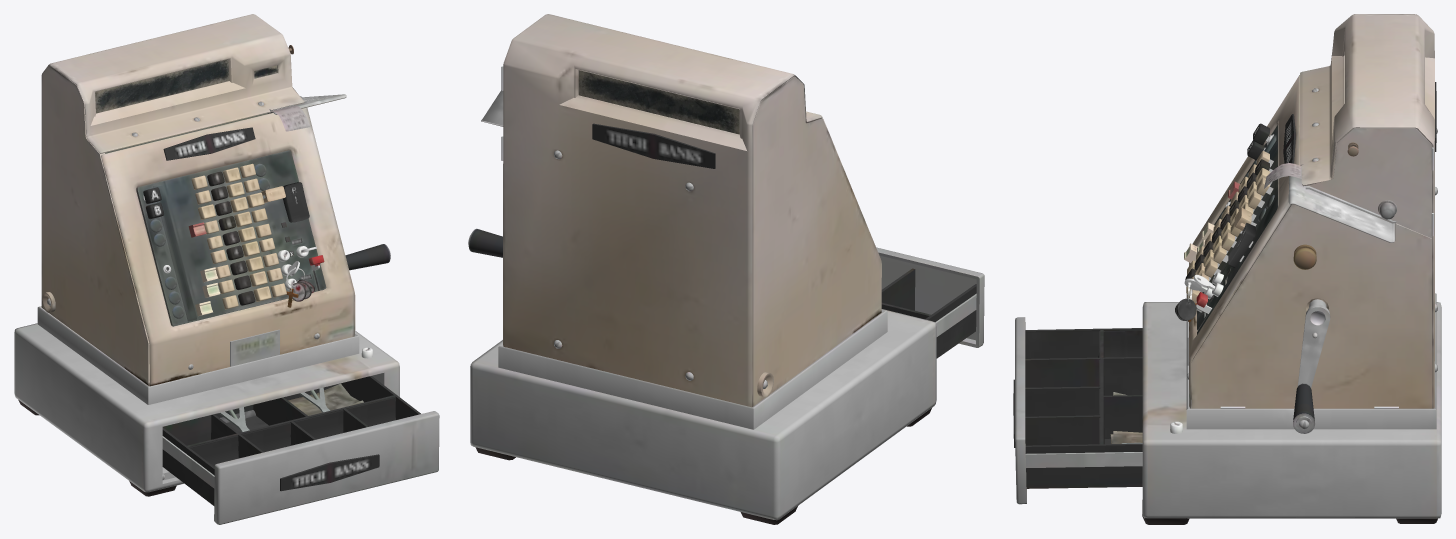
The model's file is CashRegister_01.glb.
3 renders of one model, left to right at view 1: azimuth 30°, elevation 25°; view 2: azimuth 150°, elevation 25°; view 3: azimuth 270°, elevation 25°, orthographic. The views are drawn at different scales.
Parts seen in each view (by area): view 1: CashRegister_01_body, CashRegister_011_drawer; view 2: CashRegister_01_body, CashRegister_011_drawer; view 3: CashRegister_01_body, CashRegister_011_drawer.
Boxes of the visible parts, x1,y1,x2,y2 form: CashRegister_01_body: (14, 14, 399, 496); CashRegister_011_drawer: (162, 376, 439, 524); CashRegister_01_body: (468, 14, 936, 524); CashRegister_011_drawer: (876, 247, 984, 358); CashRegister_01_body: (1142, 14, 1441, 524); CashRegister_011_drawer: (1013, 317, 1142, 504).
Bounding box in the file's own units: 0.6005 × 0.6214 × 0.6242.
Materials: 2 (2 with a texture image).
